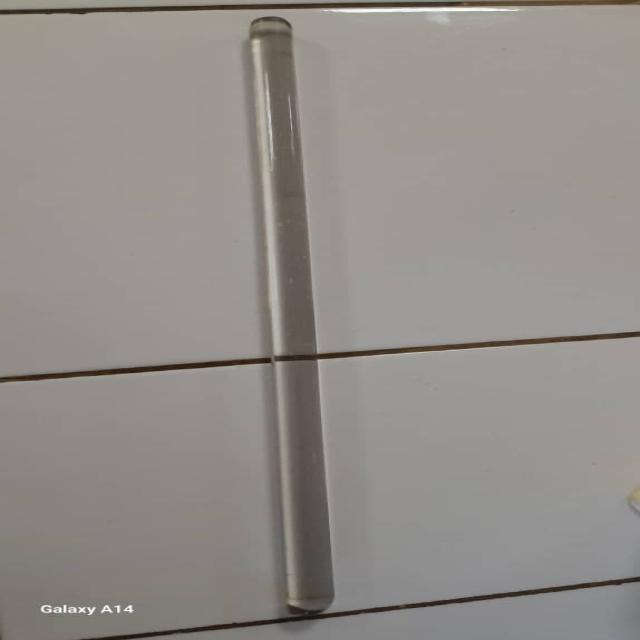Stirrer: (240, 13, 334, 626)
